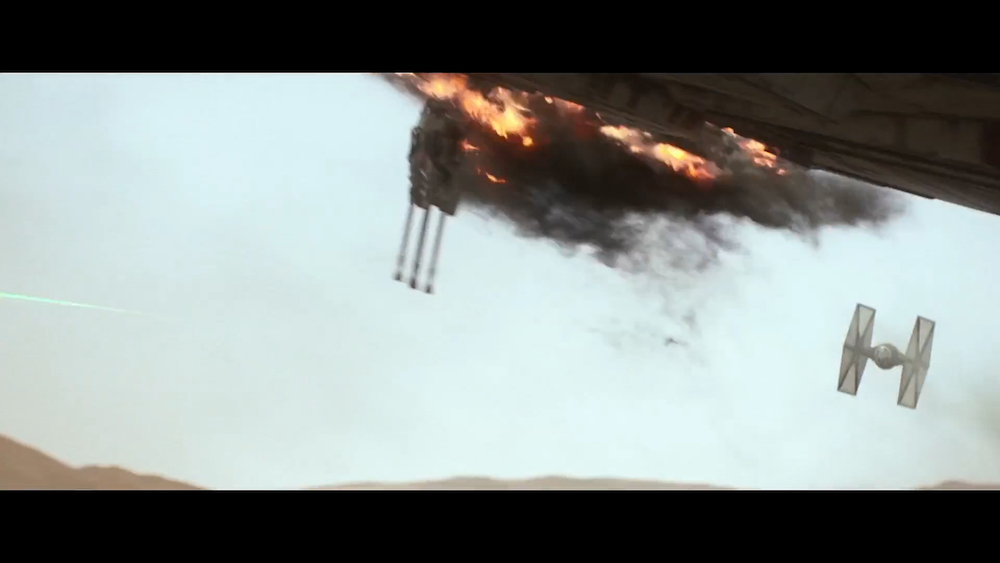Tie Fighter: (837, 303, 939, 412)
